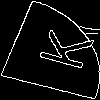K: (25, 24, 95, 72)
